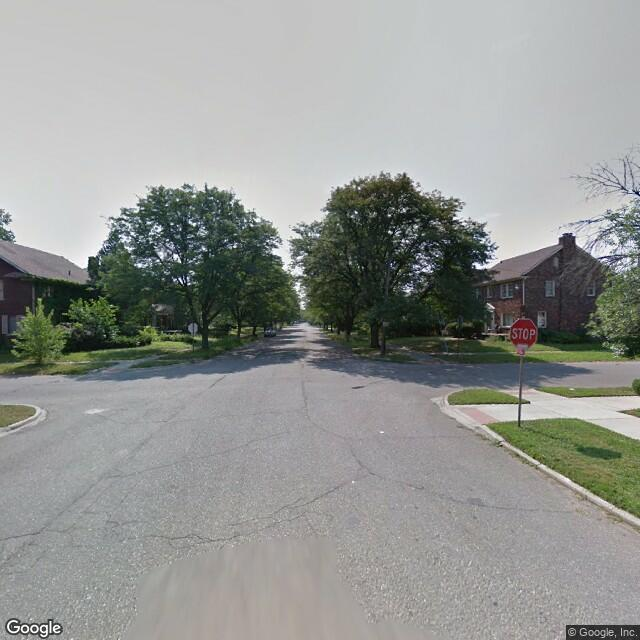litter: (569, 385, 576, 394)
